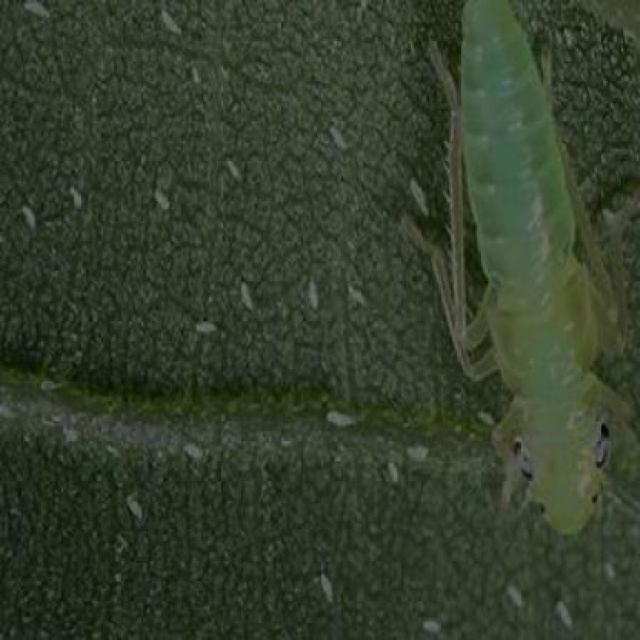green-leafhopper: (457, 1, 625, 532)
